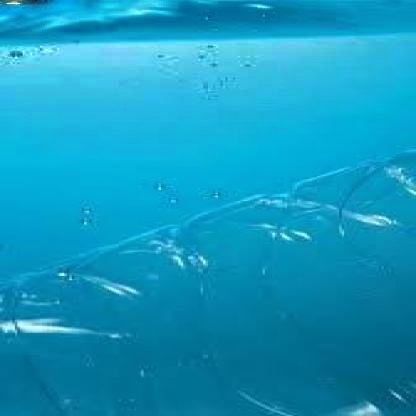pbottle: (2, 147, 416, 416)
